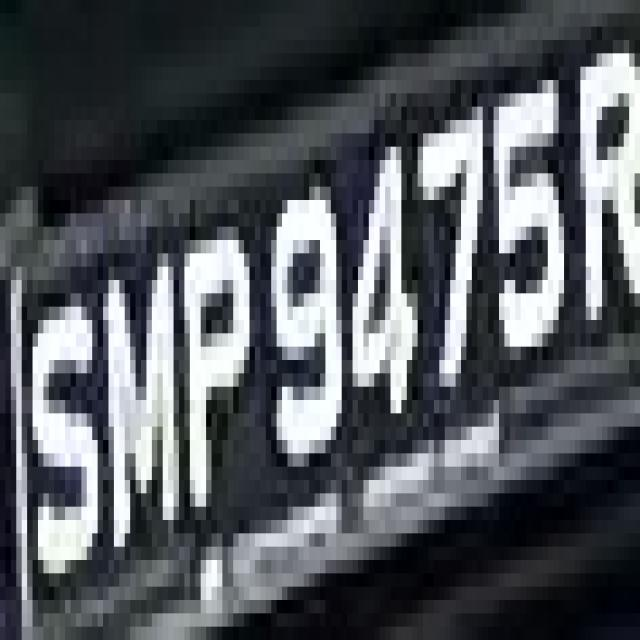4: (331, 133, 423, 427)
5: (472, 26, 569, 386)
7: (406, 80, 494, 400)
9: (260, 160, 352, 467)
M: (92, 240, 184, 547)
P: (168, 227, 266, 533)
R: (575, 40, 640, 387)
S: (16, 293, 103, 627)
